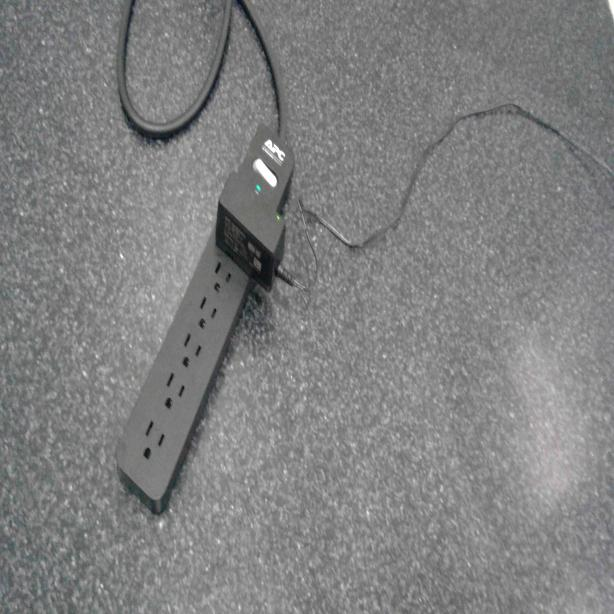typeb: (138, 418, 168, 462), (158, 372, 186, 414), (208, 255, 234, 296), (178, 333, 204, 372), (196, 292, 219, 333)
